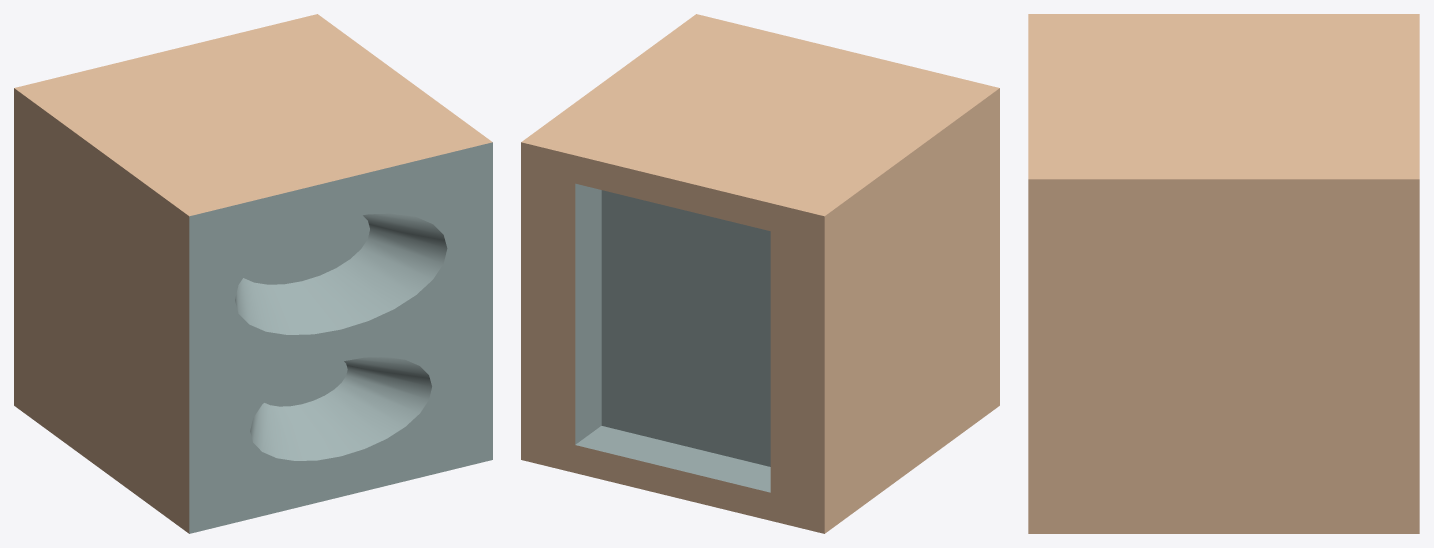
File: kn-speaker-small.glb
3 renders of one model, left to right at view 1: azimuth 30°, elevation 25°; view 2: azimuth 150°, elevation 25°; view 3: azimuth 270°, elevation 25°, orthographic. The views are drawn at different scales.
Visible parts, largest first — view 1: speakerSmall(Clone); view 2: speakerSmall(Clone); view 3: speakerSmall(Clone).
Boxes of the visible parts, x1,y1,x2,y2 form: speakerSmall(Clone): (14, 14, 492, 533); speakerSmall(Clone): (521, 14, 999, 533); speakerSmall(Clone): (1028, 14, 1419, 533).
Bounding box in the file's own units: 1 × 1 × 1.
